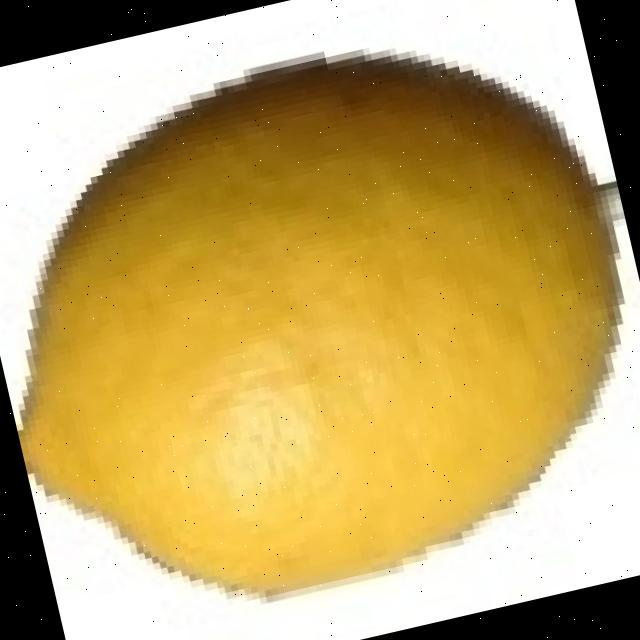lemon: (17, 58, 617, 594)
